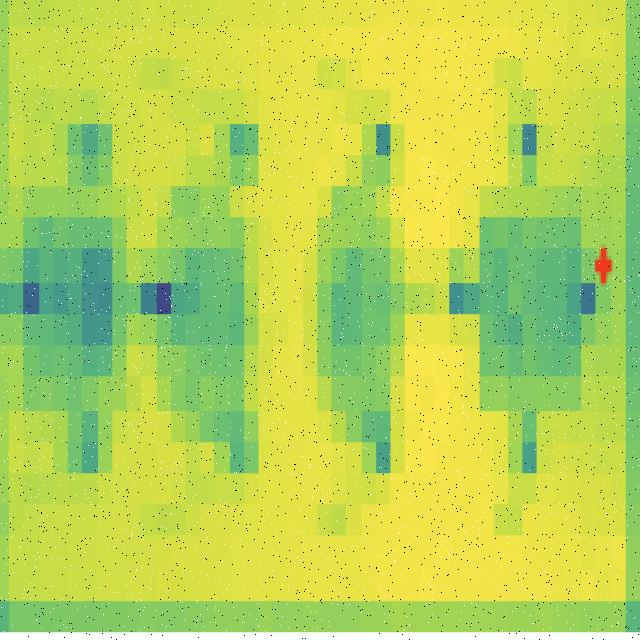Concrete: (10, 165, 144, 479)
Glass: (470, 146, 593, 442)
Metal: (154, 159, 264, 473)
Wood: (297, 150, 412, 477)
